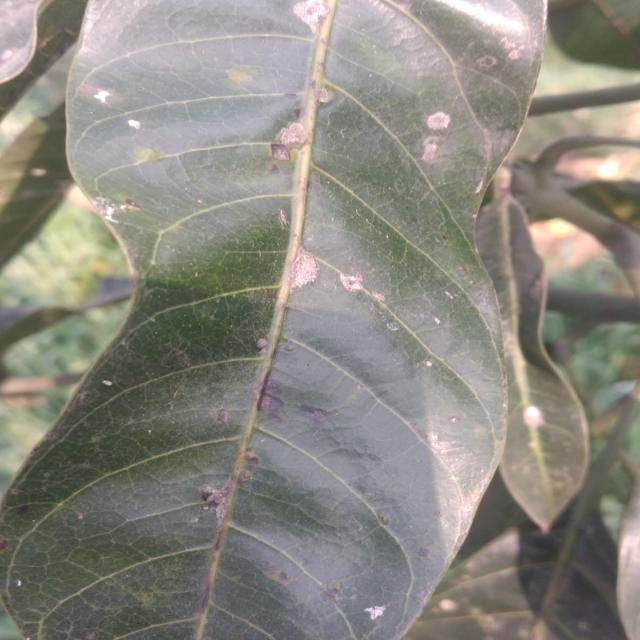Bacterial Cancer: (274, 106, 316, 158), (290, 0, 343, 38)
Powdery Mildew: (279, 252, 333, 292), (91, 201, 142, 220), (423, 107, 452, 139), (89, 79, 111, 106)
